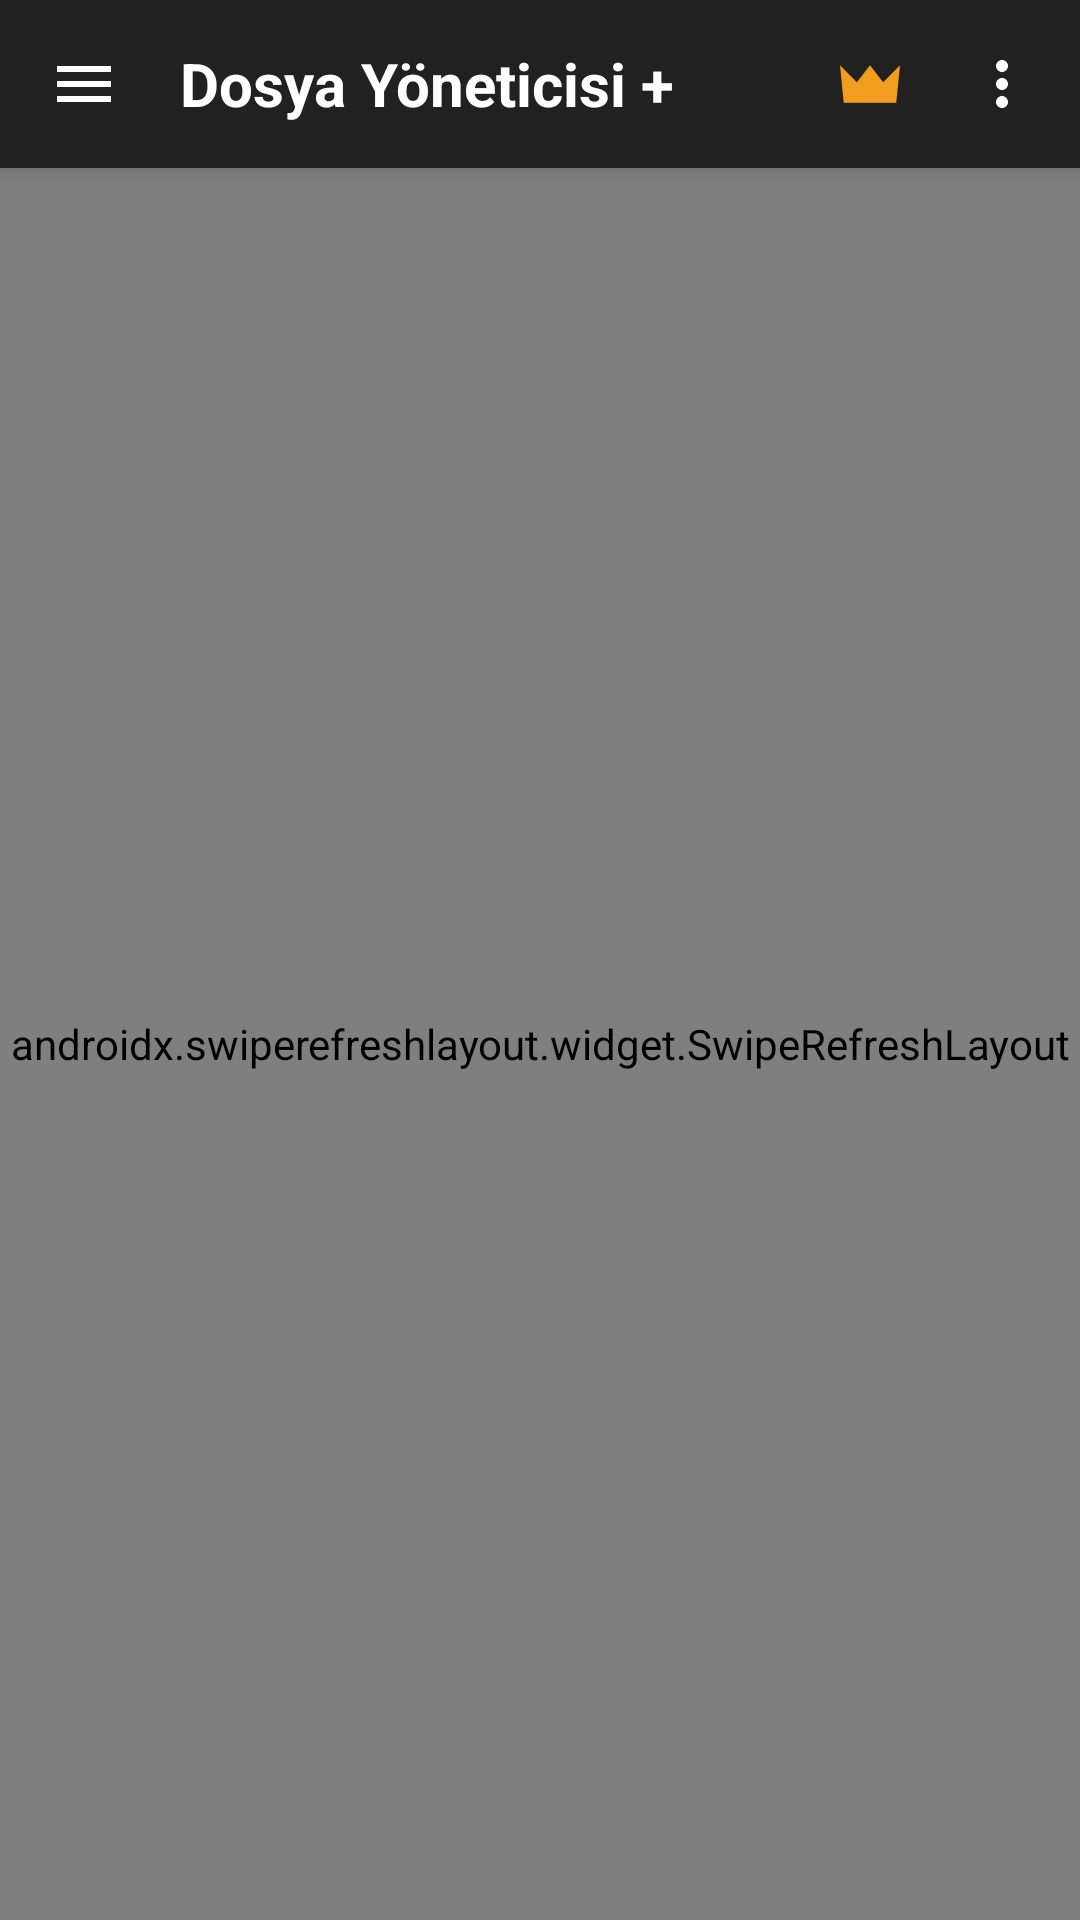

Where to tap for icons on this 1080*1920 app screen, as point (x, y):
menu: point (84, 84)
Premium / Tema: point (870, 84)
